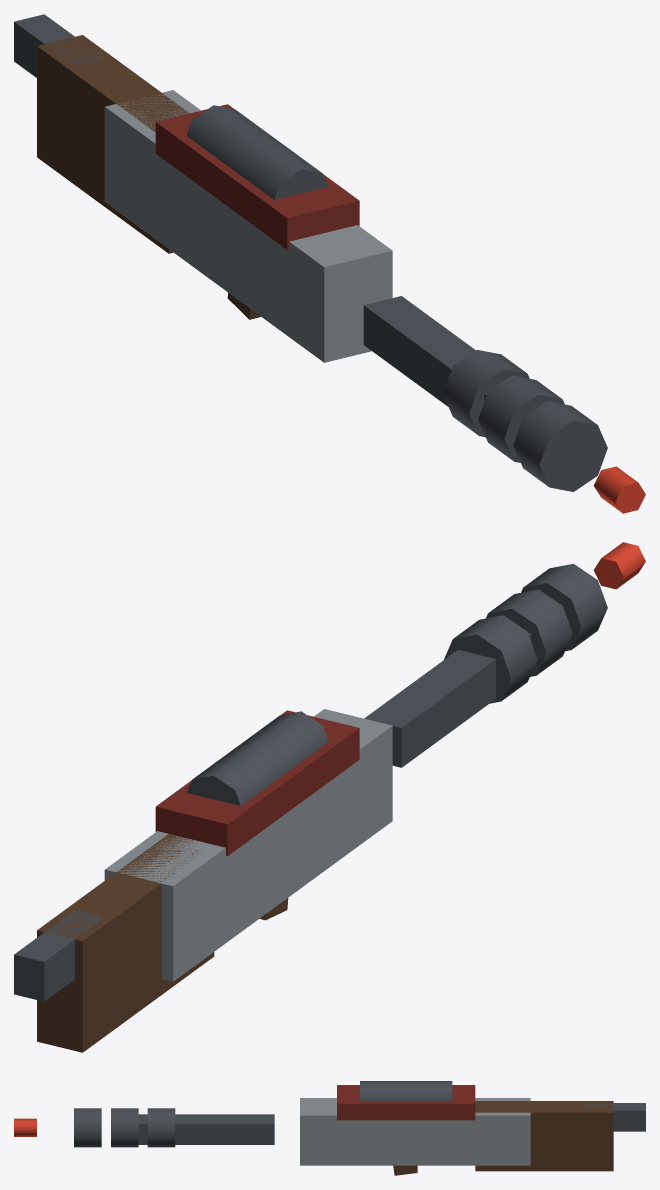
The picture shows the model from 3 angles, top to bottom: view 1: azimuth 30°, elevation 25°; view 2: azimuth 150°, elevation 25°; view 3: azimuth 270°, elevation 25°; orthographic projection. The views are drawn at different scales.
Visible parts, largest first — view 1: garde_weapon_laser_carbine; view 2: garde_weapon_laser_carbine; view 3: garde_weapon_laser_carbine.
Part boxes in pixels (x1,y1,x2,y2): garde_weapon_laser_carbine: [14, 14, 645, 513]; garde_weapon_laser_carbine: [14, 542, 645, 1052]; garde_weapon_laser_carbine: [14, 1081, 645, 1175].
Bounding box in the file's own units: 0.095 × 0.2135 × 1.37.
